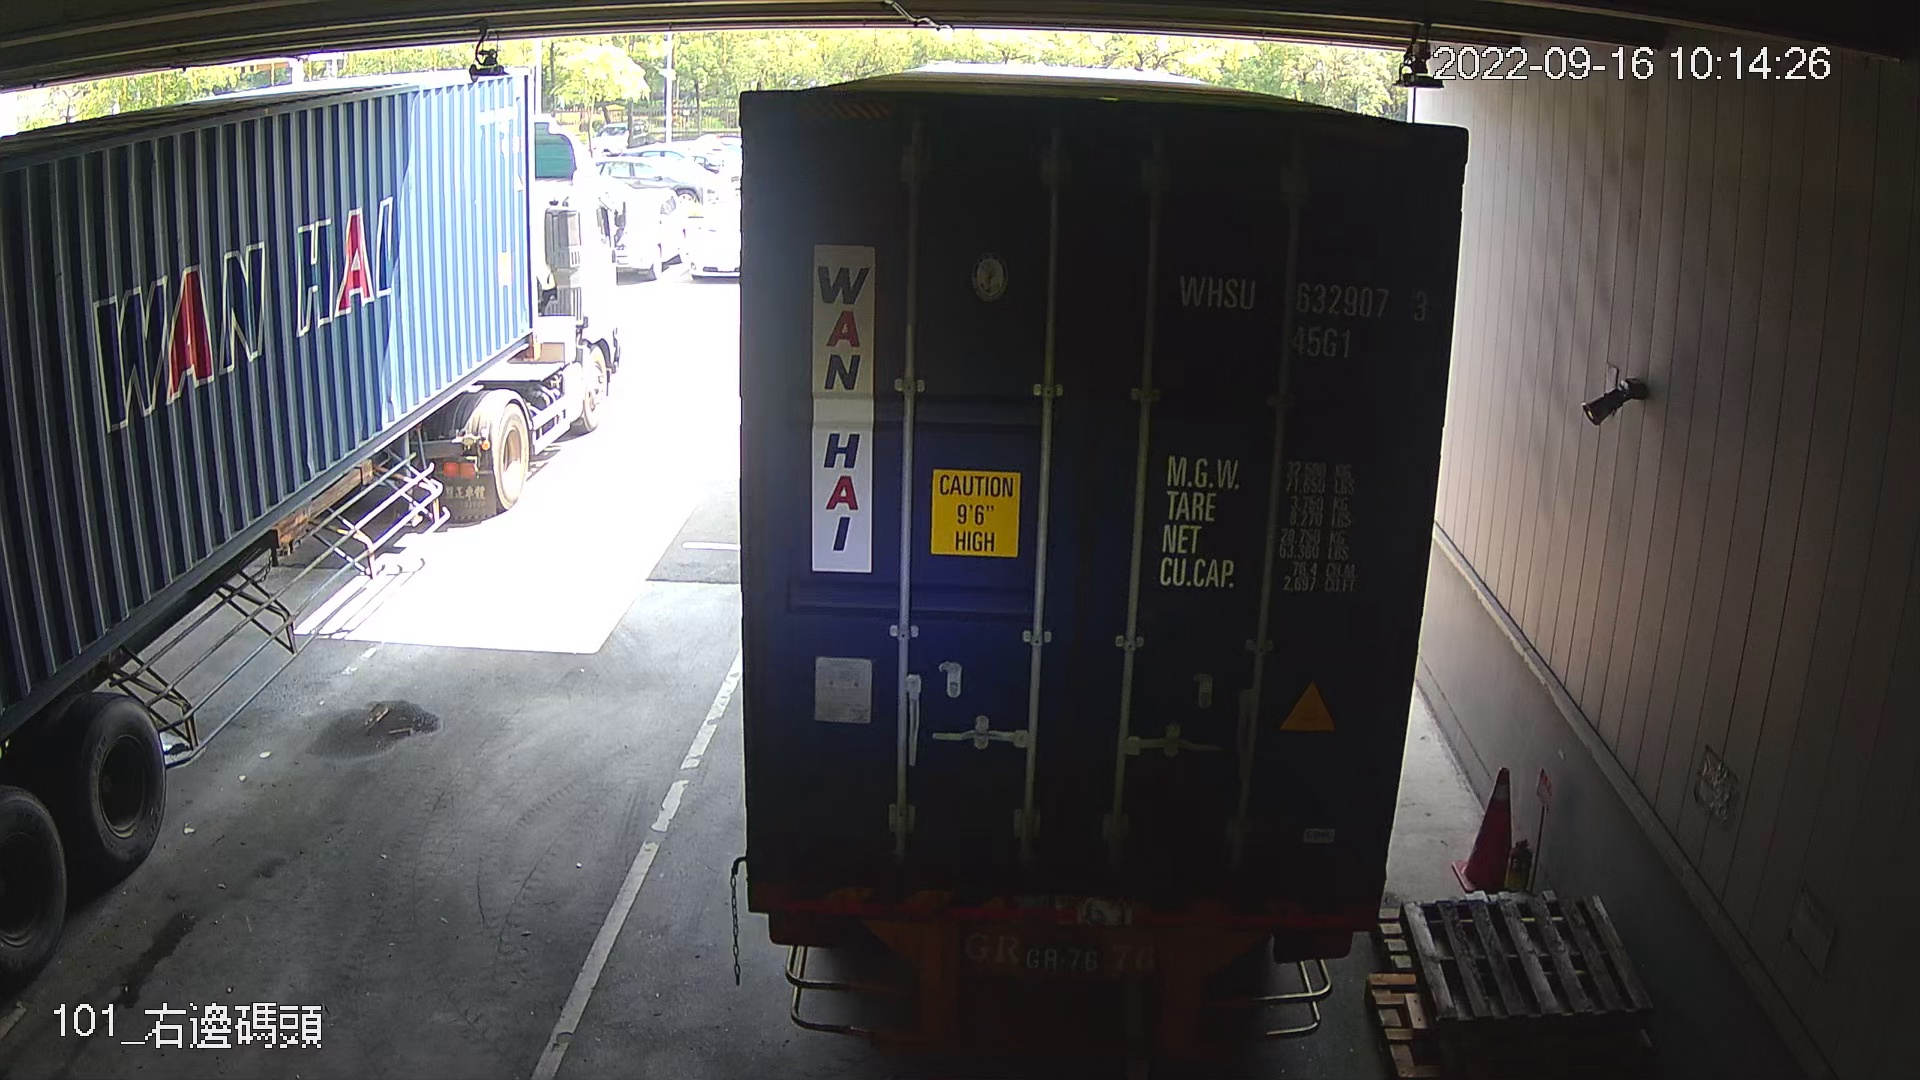container: (1164, 261, 1443, 369)
